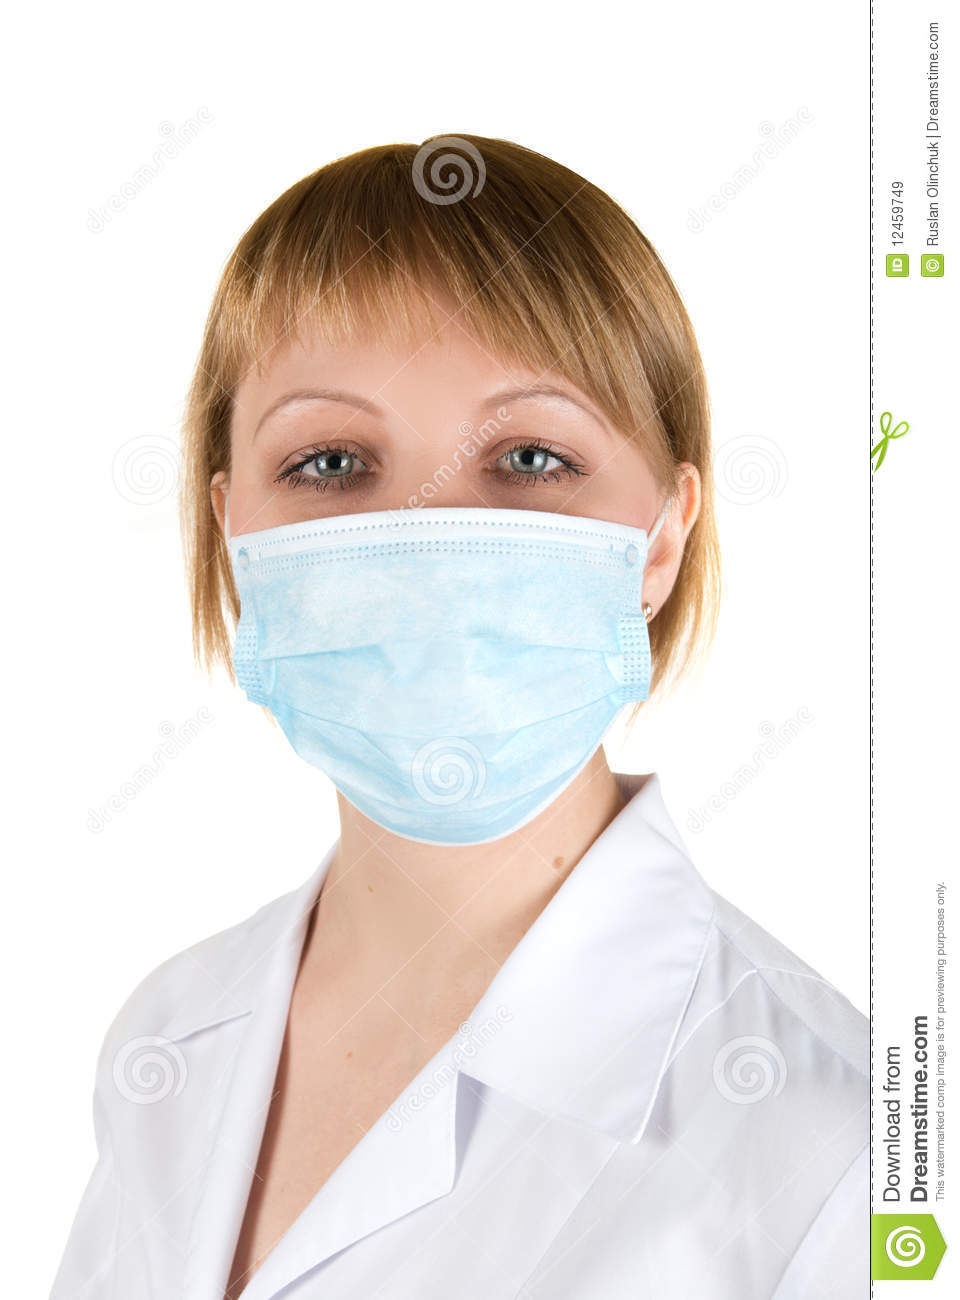mask: (230, 507, 655, 850)
